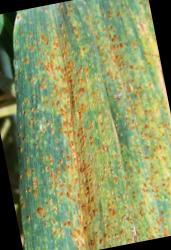Wheat: (26, 26, 138, 239), (142, 58, 169, 233)
